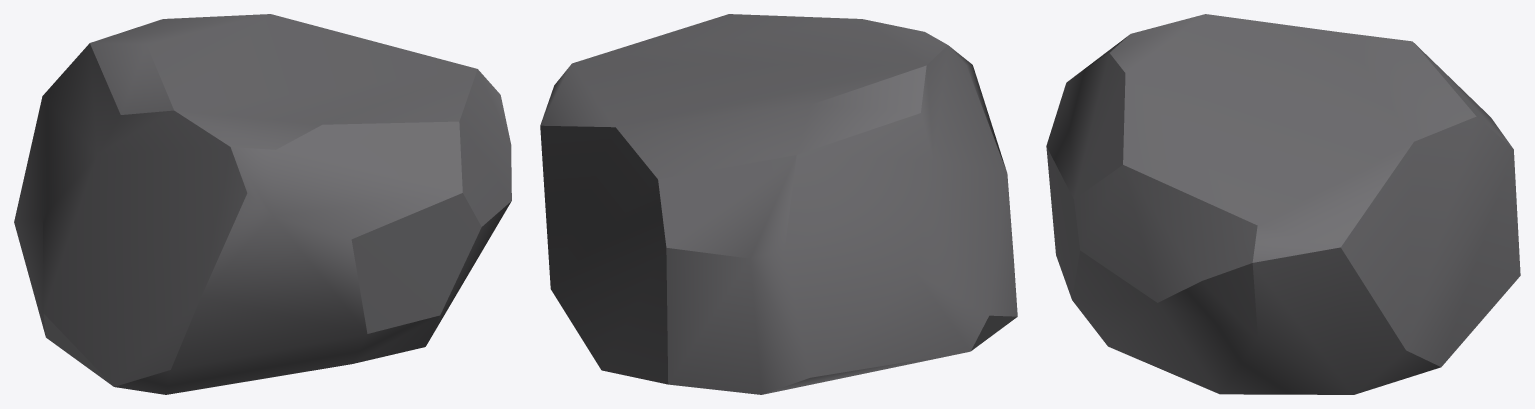
The model's file is Stone_04.fbx.
3 renders of one model, left to right at view 1: azimuth 30°, elevation 25°; view 2: azimuth 150°, elevation 25°; view 3: azimuth 270°, elevation 25°, orthographic. The views are drawn at different scales.
Parts seen in each view (by area): view 1: Stone_04; view 2: Stone_04; view 3: Stone_04.
Boxes of the visible parts, x1,y1,x2,y2 form: Stone_04: (14, 14, 511, 394); Stone_04: (540, 14, 1017, 394); Stone_04: (1046, 14, 1520, 394).
Bounding box in the file's own units: 167 × 98.82 × 159.
